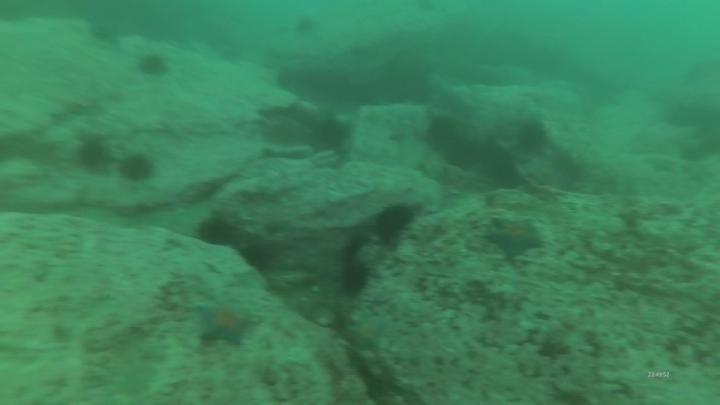echinus: (372, 201, 419, 245), (480, 145, 521, 190), (423, 113, 462, 155), (194, 214, 239, 250), (440, 133, 481, 172), (74, 135, 112, 176), (311, 116, 351, 153), (337, 257, 373, 298), (513, 117, 550, 156), (116, 151, 157, 186), (238, 240, 276, 274), (135, 51, 171, 80), (290, 11, 326, 40), (217, 38, 253, 67), (85, 19, 121, 47)
starfish: (191, 298, 260, 349), (483, 213, 545, 260), (345, 311, 392, 353)
